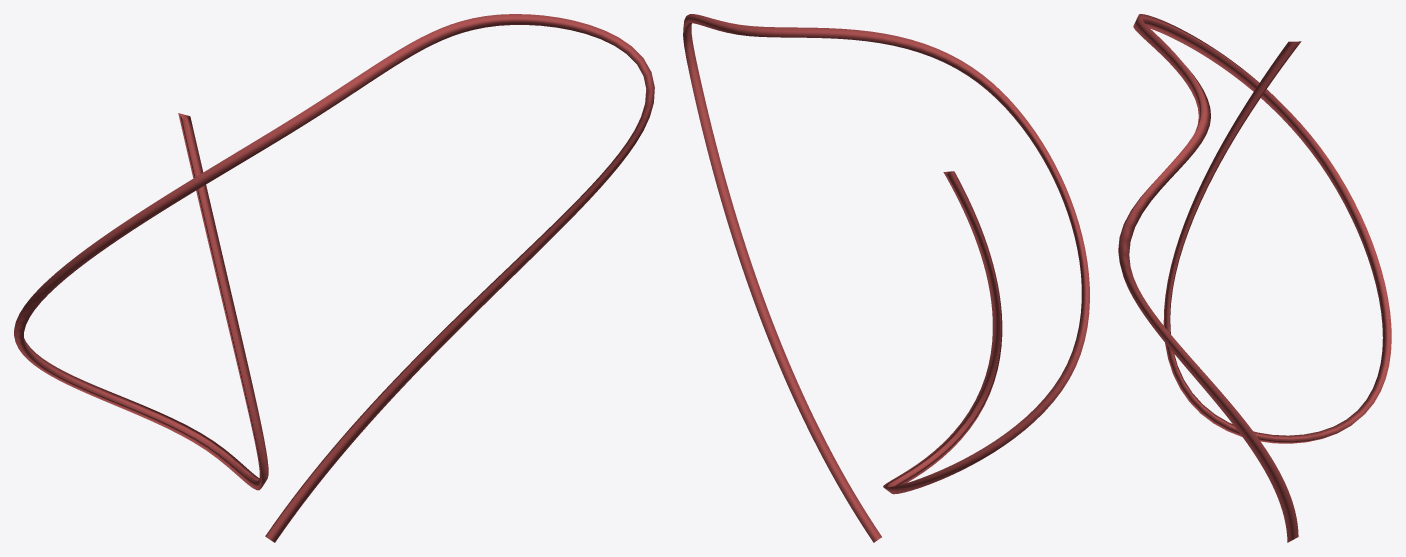
Rendered from wireThreeWild.fbx.
3 renders of one model, left to right at view 1: azimuth 30°, elevation 25°; view 2: azimuth 150°, elevation 25°; view 3: azimuth 270°, elevation 25°, orthographic. The views are drawn at different scales.
Parts seen in each view (by area): view 1: extrudedSurface13; view 2: extrudedSurface13; view 3: extrudedSurface13.
Boxes of the visible parts, x1,y1,x2,y2 form: extrudedSurface13: (14,14,654,542); extrudedSurface13: (683,14,1089,542); extrudedSurface13: (1118,14,1391,542).
Size of the model in its own units: 64.97 by 59.74 by 27.69.
